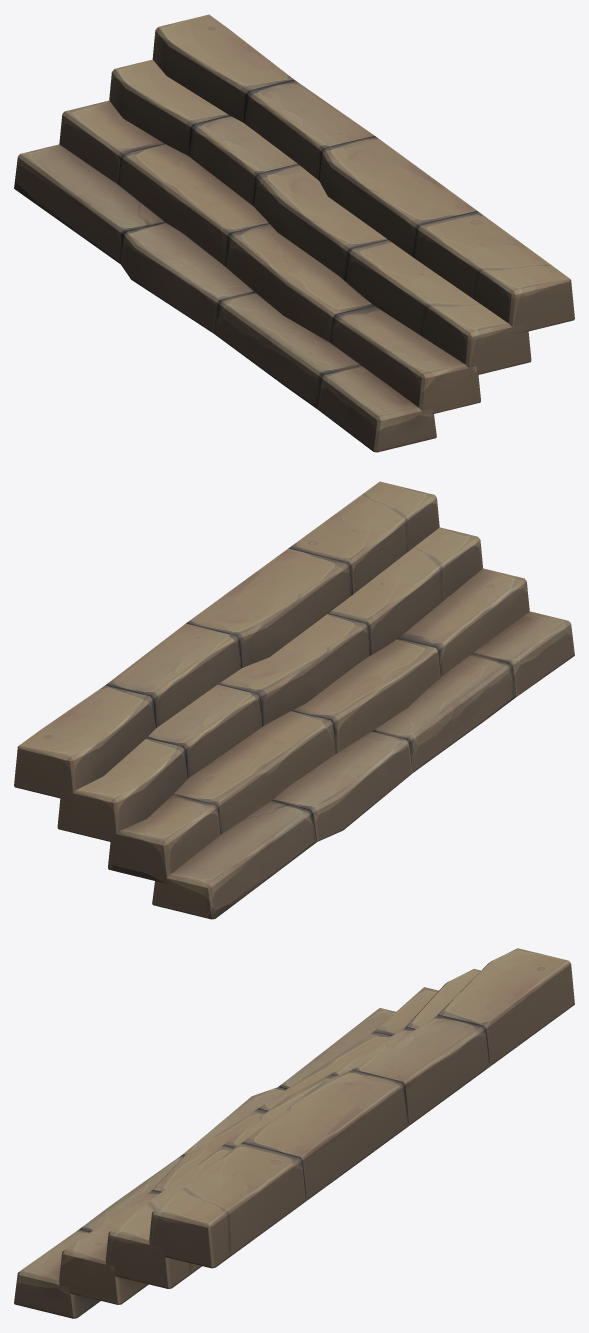
The model's file is stairs_02.fbx.
3 renders of one model, top to bottom at view 1: azimuth 30°, elevation 25°; view 2: azimuth 150°, elevation 25°; view 3: azimuth 330°, elevation 25°, orthographic.
Visible parts, largest first — view 1: wh_stairs_02; view 2: wh_stairs_02; view 3: wh_stairs_02.
Part boxes in pixels (x1=…): wh_stairs_02: x1=14, y1=14, x2=574, y2=452; wh_stairs_02: x1=14, y1=481, x2=574, y2=919; wh_stairs_02: x1=14, y1=948, x2=574, y2=1318.
Bounding box in the file's own units: 2.19 × 1.28 × 6.65.
